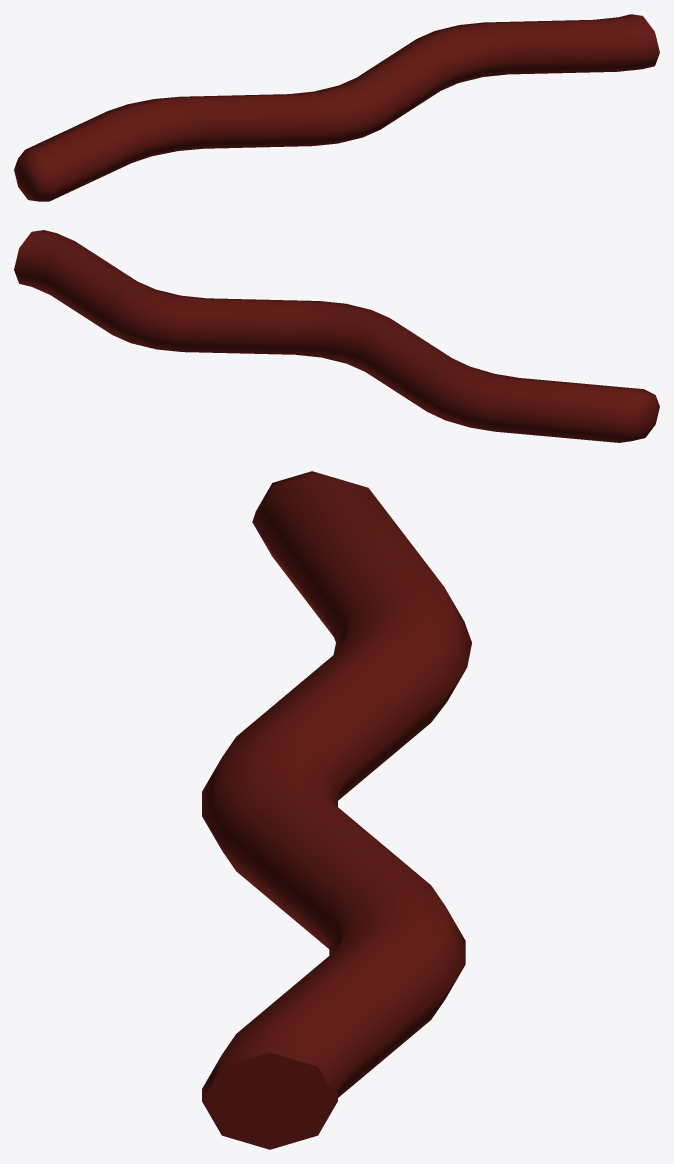
The model's file is Souse_half.005.fbx.
3 views of the same model, one above another, from view 1: azimuth 30°, elevation 25°; view 2: azimuth 150°, elevation 25°; view 3: azimuth 270°, elevation 25° (orthographic). The views are drawn at different scales.
Parts seen in each view (by area): view 1: Souse_half.005; view 2: Souse_half.005; view 3: Souse_half.005.
Part boxes in pixels (<box>): Souse_half.005: <box>14,14,659,201</box>; Souse_half.005: <box>14,230,659,442</box>; Souse_half.005: <box>202,471,471,1149</box>.
Bounding box in the file's own units: 76.28 × 14.66 × 5.82.
